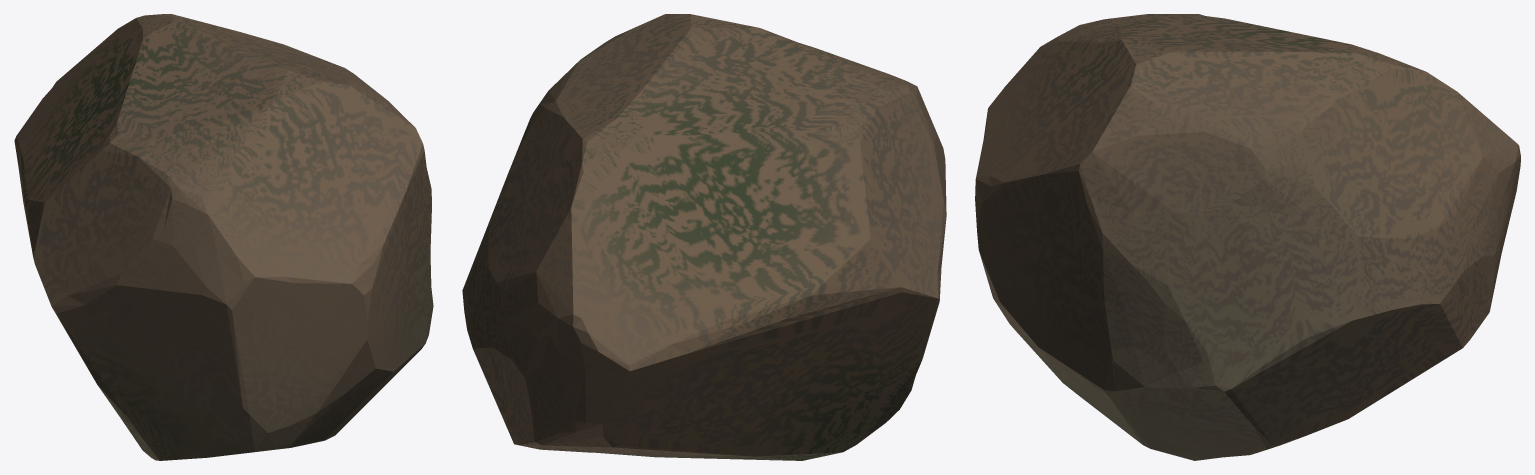
The model's file is Piedra_01.fbx.
The picture shows the model from 3 angles, left to right: view 1: azimuth 30°, elevation 25°; view 2: azimuth 150°, elevation 25°; view 3: azimuth 270°, elevation 25°; orthographic projection. The views are drawn at different scales.
Parts seen in each view (by area): view 1: Piedrita_01_Piedrita_01; view 2: Piedrita_01_Piedrita_01; view 3: Piedrita_01_Piedrita_01.
Part boxes in pixels (left/top/right/bottom): Piedrita_01_Piedrita_01: left=14, top=14, right=433, bottom=460; Piedrita_01_Piedrita_01: left=462, top=14, right=946, bottom=460; Piedrita_01_Piedrita_01: left=975, top=14, right=1520, bottom=460.
Bounding box in the file's own units: 14.05 × 13.28 × 16.57.
